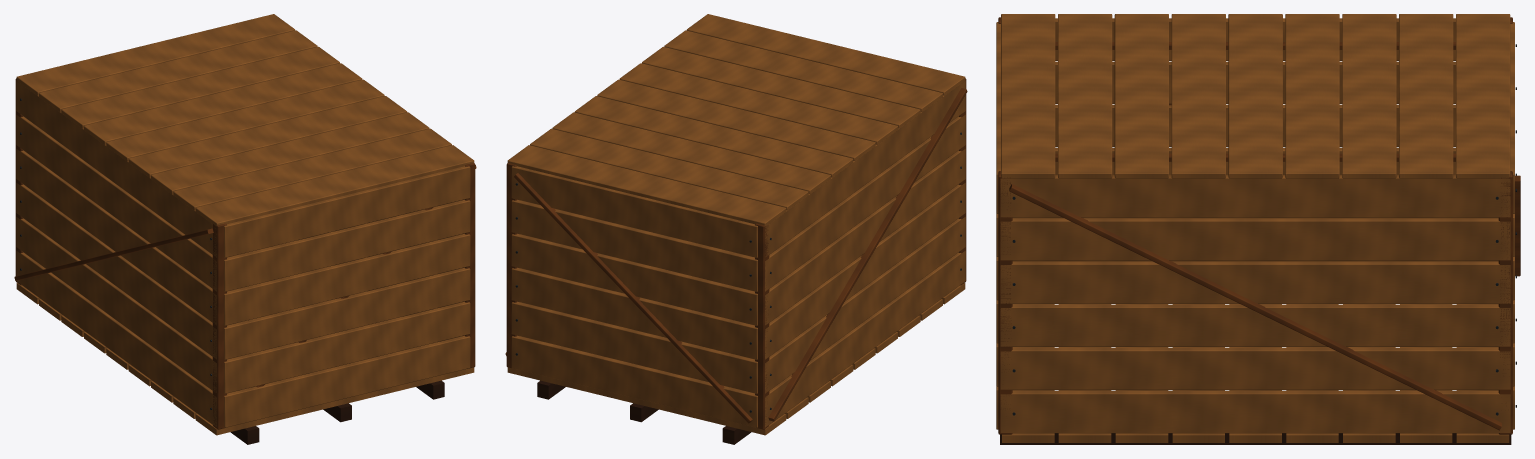
Rendered from DeliveryCrate.gltf.
The picture shows the model from 3 angles, left to right: view 1: azimuth 30°, elevation 25°; view 2: azimuth 150°, elevation 25°; view 3: azimuth 270°, elevation 25°; orthographic projection. The views are drawn at different scales.
Parts seen in each view (by area): view 1: DeliveryCrate__Lid, DeliveryCrate__BackPanel, DeliveryCrate__Body; view 2: DeliveryCrate__Lid, DeliveryCrate__FrontPanel, DeliveryCrate__Body; view 3: DeliveryCrate__Body, DeliveryCrate__Lid, DeliveryCrate__FrontPanel, DeliveryCrate__BackPanel.
Part boxes in pixels (x1=…): DeliveryCrate__Lid: x1=16, y1=14, x2=474, y2=226; DeliveryCrate__BackPanel: x1=224, y1=166, x2=470, y2=427; DeliveryCrate__Body: x1=14, y1=78, x2=476, y2=444; DeliveryCrate__Lid: x1=507, y1=14, x2=965, y2=226; DeliveryCrate__FrontPanel: x1=511, y1=166, x2=757, y2=427; DeliveryCrate__Body: x1=505, y1=78, x2=967, y2=444; DeliveryCrate__Body: x1=998, y1=17, x2=1512, y2=444; DeliveryCrate__Lid: x1=1001, y1=14, x2=1510, y2=178; DeliveryCrate__FrontPanel: x1=1510, y1=22, x2=1520, y2=429; DeliveryCrate__BackPanel: x1=996, y1=22, x2=1000, y2=429.
Bounding box in the file's own units: 1.51 × 1.23 × 2.02.
Materials: 1 (1 with a texture image).
